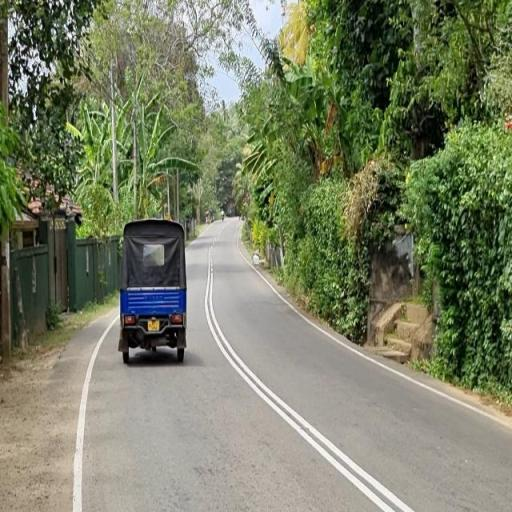double_white_line: (204, 238, 415, 512)
